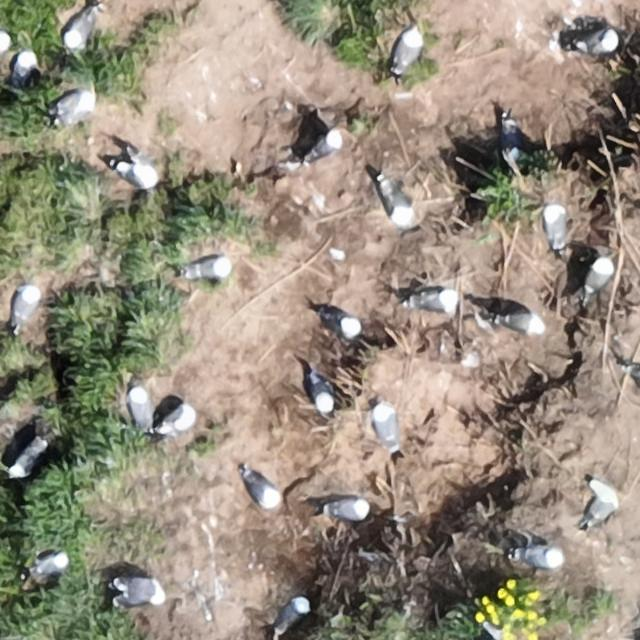umineko: (384, 182, 413, 224), (66, 8, 97, 47), (394, 30, 421, 72), (245, 473, 277, 508), (589, 481, 616, 521), (375, 409, 400, 451), (120, 160, 155, 190), (277, 597, 308, 630), (118, 579, 162, 602), (13, 286, 38, 326), (54, 91, 92, 117), (499, 310, 543, 332), (12, 442, 41, 475), (545, 209, 567, 251), (520, 546, 562, 568), (128, 387, 150, 429), (185, 257, 229, 278), (577, 32, 617, 55), (587, 258, 613, 293), (160, 406, 192, 434), (414, 290, 454, 312), (308, 130, 339, 157), (329, 499, 368, 520), (310, 377, 332, 414), (329, 313, 362, 337), (34, 552, 68, 574), (502, 118, 520, 159), (13, 50, 33, 83), (480, 621, 503, 639)
